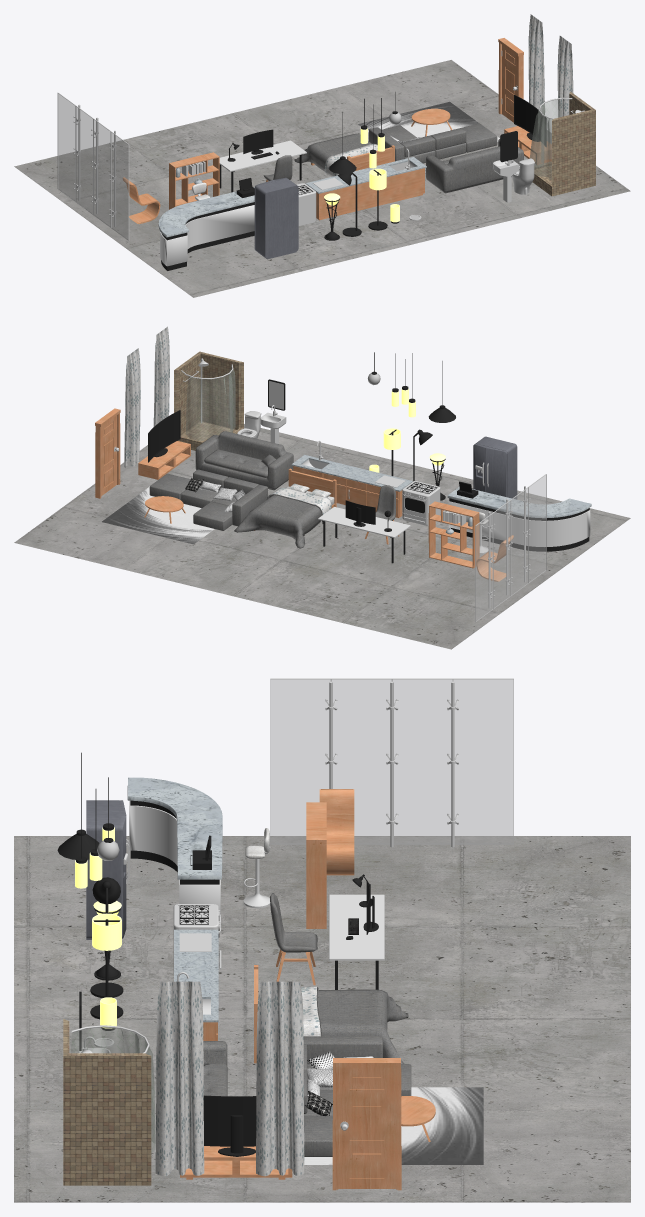
The model's file is Bed.fbx.
3 views of the same model, one above another, from view 1: azimuth 30°, elevation 25°; view 2: azimuth 150°, elevation 25°; view 3: azimuth 270°, elevation 25° (orthographic). The views are drawn at different scales.
Visible parts, largest first — view 1: Floor, GlassPanel, Shower, Counter1, Kitchen1, Cube, Sofa2, Sofa1, Door, Quint, Carpet, Shelf (+19 smaller); view 2: Floor, GlassPanel, Counter1, Shower, Sofa1, Sofa2, Quint, Kitchen1, Carpet, Cube, Shelf, Door (+16 smaller); view 3: Floor, GlassPanel, Shower, Curtain.001, Curtain, Door, Counter1, Carpet, Quint, Sofa2, Desk, Kitchen1 (+15 smaller).
Boxes of the visible parts, bbox=[...] form: Floor: bbox=[14, 60, 630, 297]; GlassPanel: bbox=[57, 92, 129, 240]; Shower: bbox=[530, 91, 595, 196]; Counter1: bbox=[158, 187, 254, 270]; Kitchen1: bbox=[305, 148, 426, 220]; Cube: bbox=[254, 177, 298, 259]; Sofa2: bbox=[369, 123, 497, 163]; Sofa1: bbox=[426, 139, 523, 193]; Door: bbox=[498, 38, 523, 122]; Quint: bbox=[294, 133, 377, 176]; Carpet: bbox=[358, 101, 499, 141]; Shelf: bbox=[169, 152, 219, 209]; Floor: bbox=[14, 424, 630, 649]; GlassPanel: bbox=[475, 474, 546, 622]; Counter1: bbox=[447, 487, 591, 551]; Shower: bbox=[174, 351, 243, 450]; Sofa1: bbox=[195, 431, 293, 490]; Sofa2: bbox=[149, 469, 267, 530]; Quint: bbox=[234, 487, 331, 548]; Kitchen1: bbox=[291, 440, 412, 517]; Carpet: bbox=[102, 486, 214, 544]; Cube: bbox=[473, 436, 517, 499]; Shelf: bbox=[428, 501, 479, 568]; Door: bbox=[95, 408, 120, 498]; Floor: bbox=[14, 836, 630, 1202]; GlassPanel: bbox=[270, 678, 513, 844]; Shower: bbox=[63, 1019, 155, 1185]; Curtain.001: bbox=[155, 981, 204, 1176]; Curtain: bbox=[256, 981, 304, 1176]; Door: bbox=[332, 1058, 401, 1190]; Counter1: bbox=[127, 777, 222, 937]; Carpet: bbox=[304, 1087, 483, 1164]; Quint: bbox=[301, 986, 408, 1063]; Sofa2: bbox=[303, 1036, 411, 1156]; Desk: bbox=[329, 894, 384, 989]; Kitchen1: bbox=[174, 929, 219, 1040].
Bounding box in the file's own units: 1425 × 408 × 1013.
